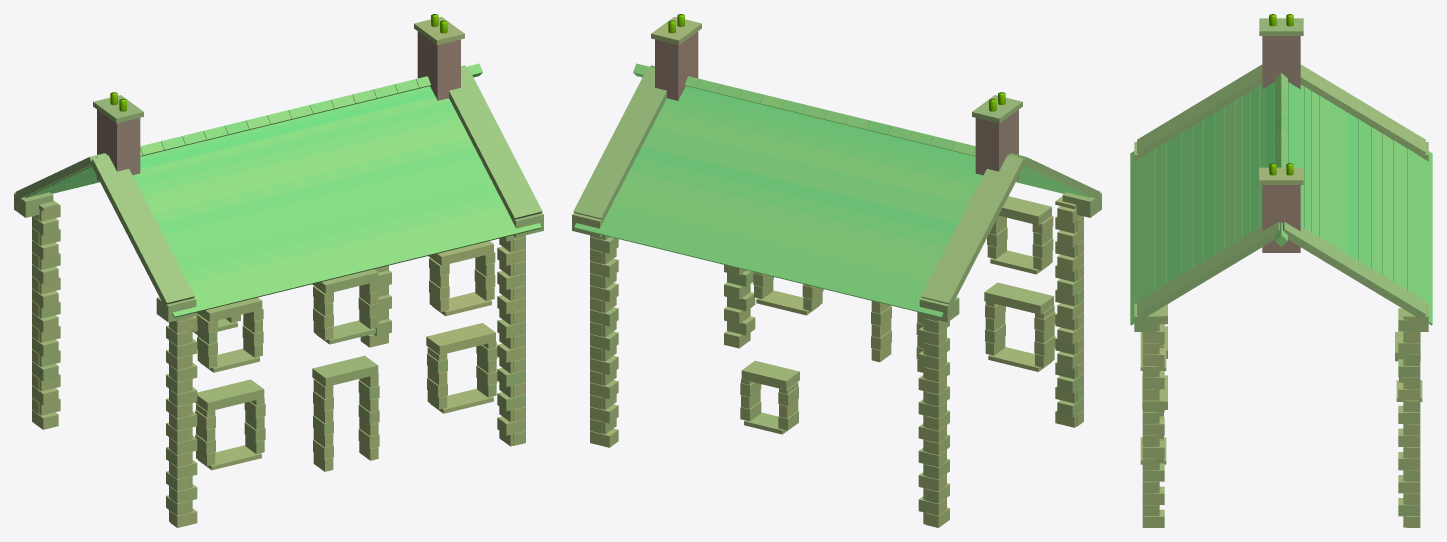
Rendered from SM_Bld_001_Stone.glb.
The picture shows the model from 3 angles, left to right: view 1: azimuth 30°, elevation 25°; view 2: azimuth 150°, elevation 25°; view 3: azimuth 270°, elevation 25°; orthographic projection. The views are drawn at different scales.
Visible parts, largest first — view 1: SM_Bld_001_Stone; view 2: SM_Bld_001_Stone; view 3: SM_Bld_001_Stone.
Part boxes in pixels (x1,y1,x2,y2): SM_Bld_001_Stone: [14, 14, 543, 527]; SM_Bld_001_Stone: [572, 14, 1101, 527]; SM_Bld_001_Stone: [1130, 14, 1432, 527].
Bounding box in the file's own units: 10.05 × 9.25 × 7.11.
